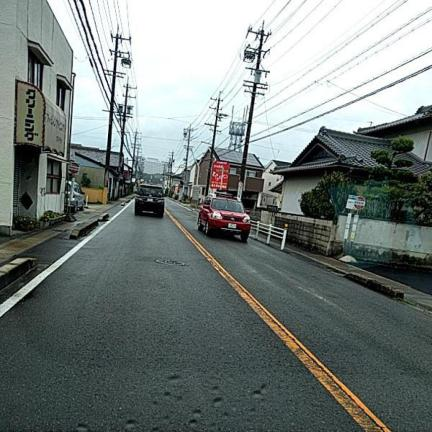Road: (0, 201, 431, 431)
